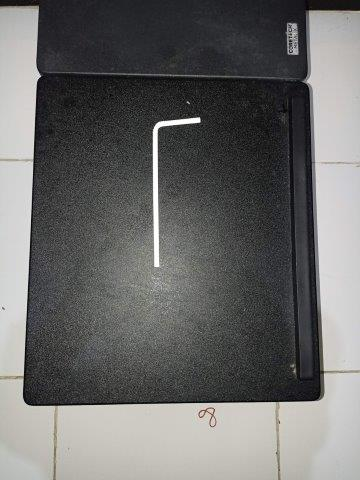karet: (198, 407, 217, 427)
sedotan: (153, 117, 200, 267)
